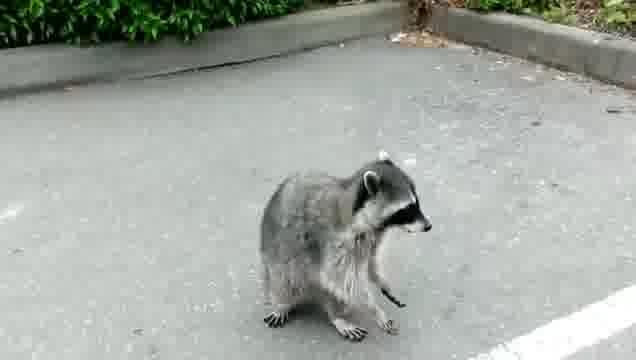raccoon: (255, 147, 435, 348)
